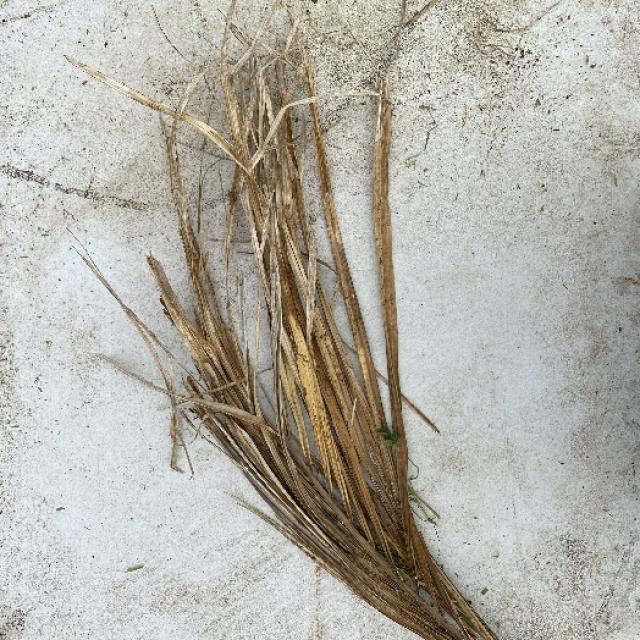organik: (113, 37, 498, 640)
